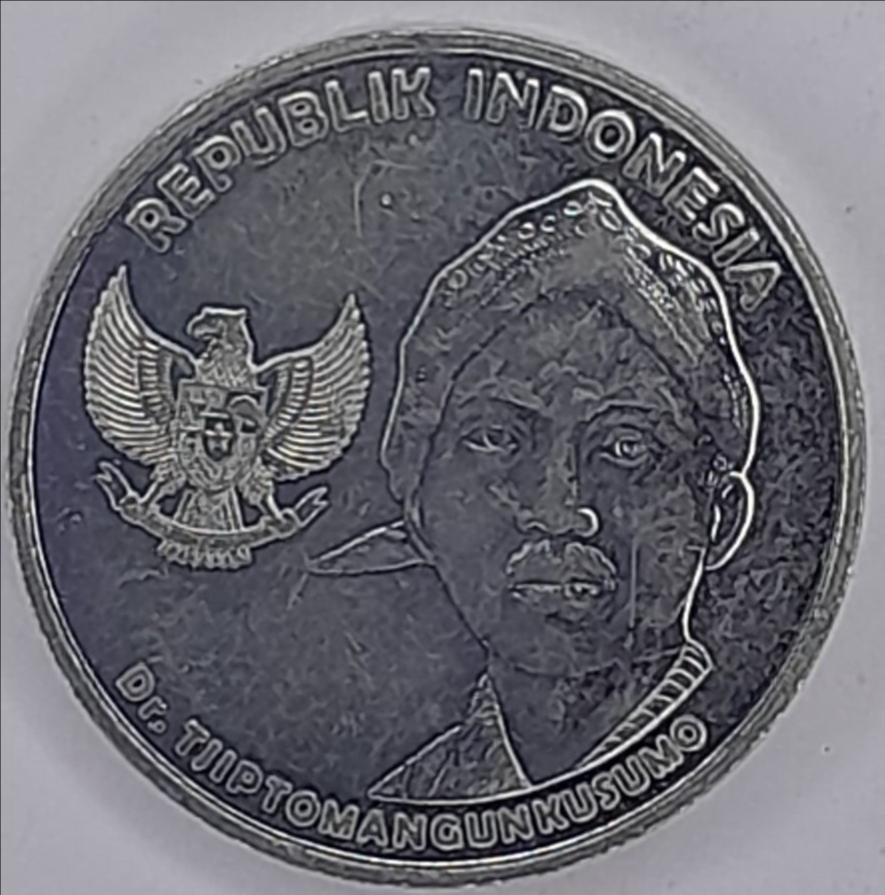coin_200_e2016: (0, 7, 885, 895)
